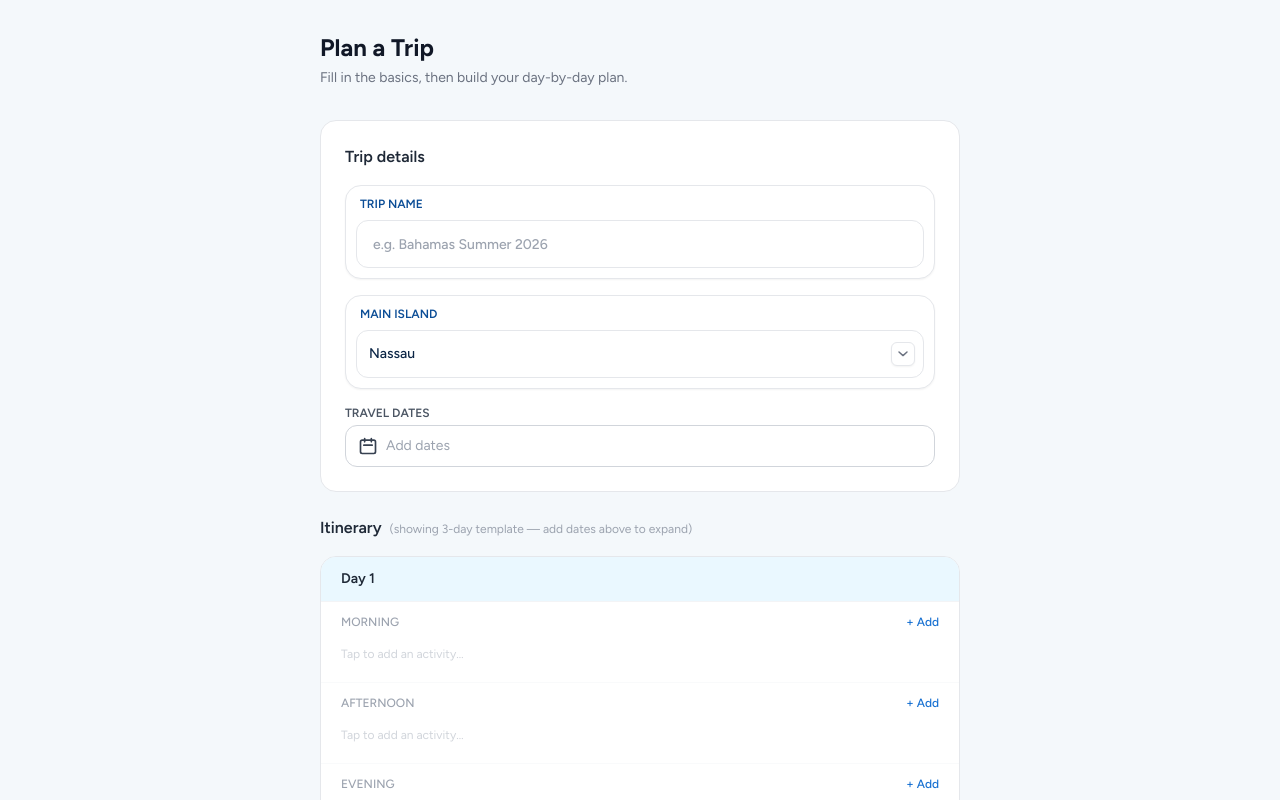
Test: trip planning form fields › activity modal exposes modern search and custom activity fields
Click the 1st button "+ Add" at coordinates (923, 622), box [906, 614, 939, 630]
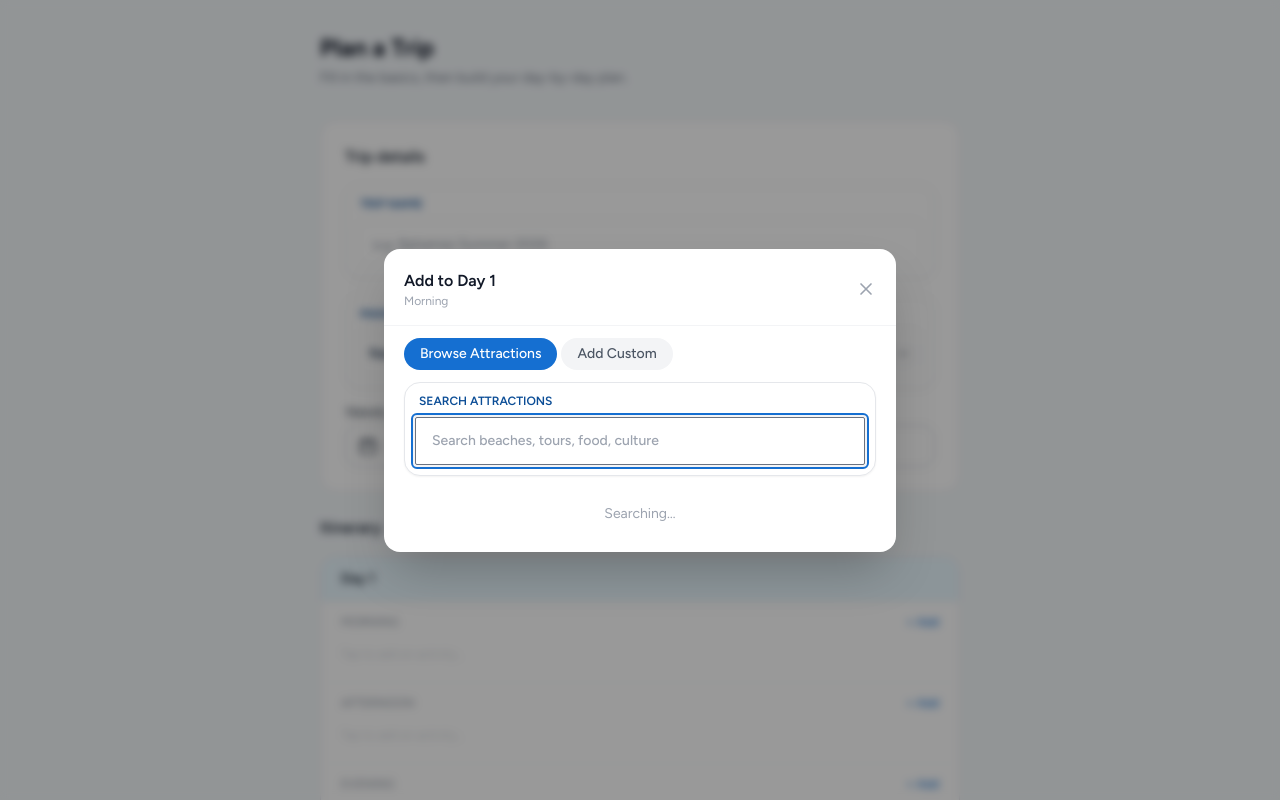
Click the button "Add Custom" at coordinates (617, 354), box [561, 338, 673, 370]
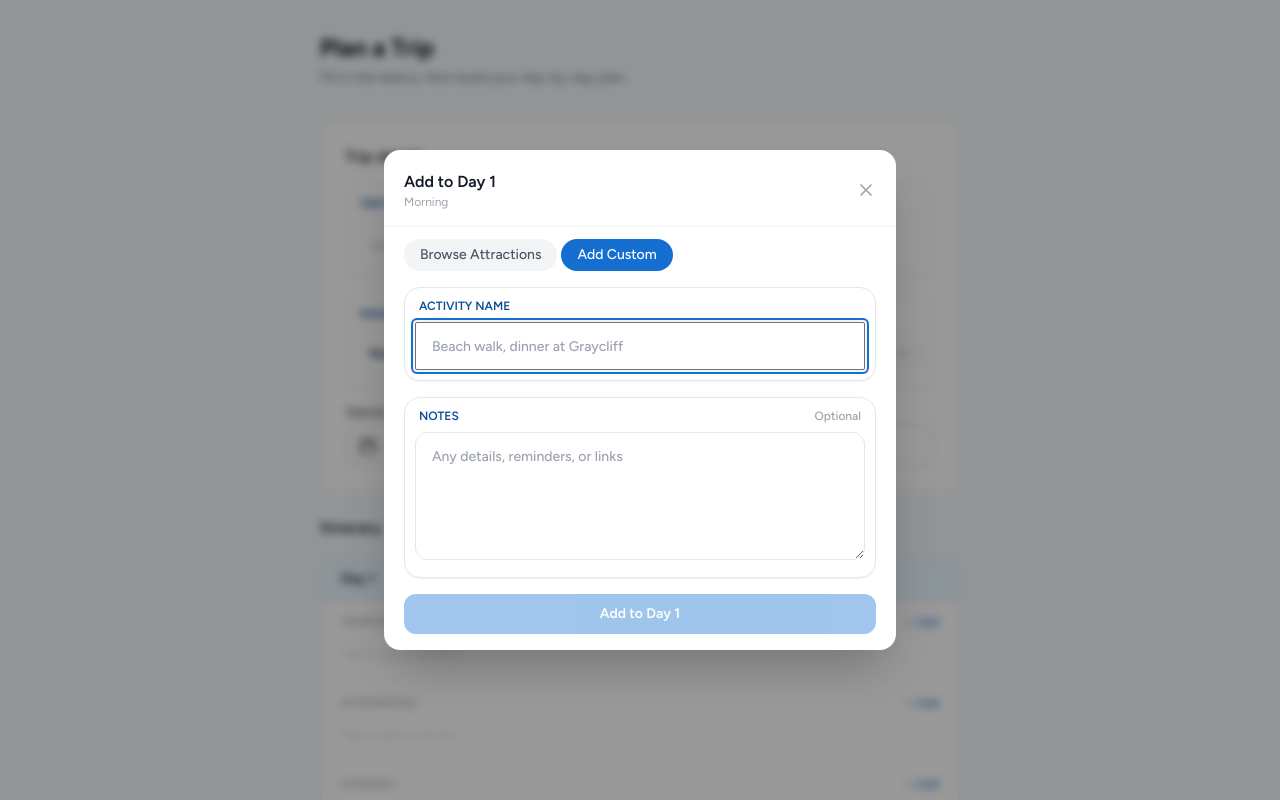
Expected: the button "Add to Day 1" is disabled, [404, 594, 876, 634]
